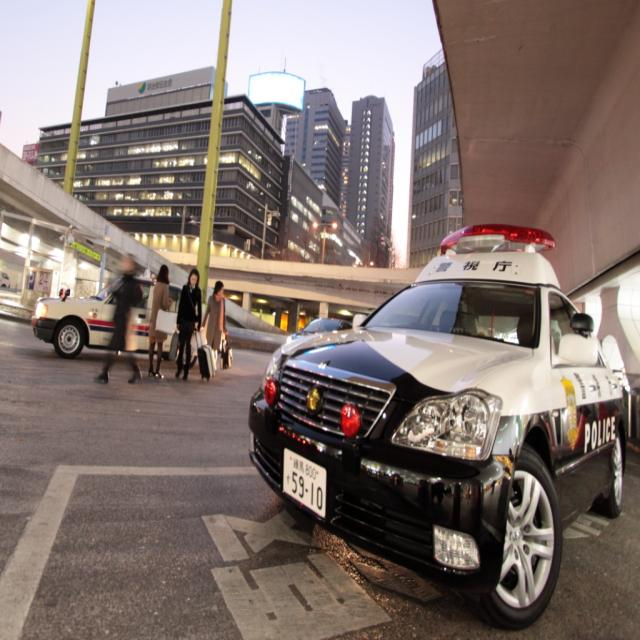Passenger Car: (246, 219, 628, 629), (32, 272, 112, 364)
Pedestrians: (172, 266, 205, 381), (208, 278, 232, 384)
